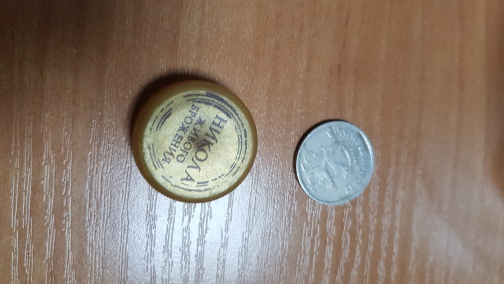coin: (294, 118, 375, 206)
